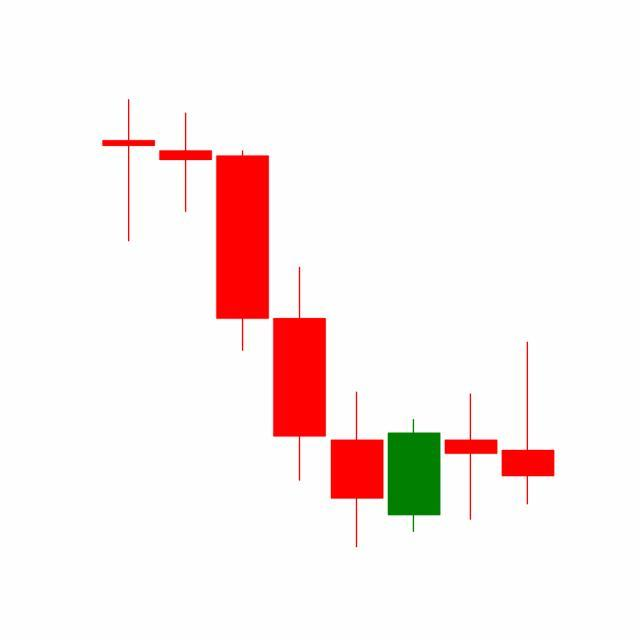Hikkake Pattern: (214, 146, 501, 548)
